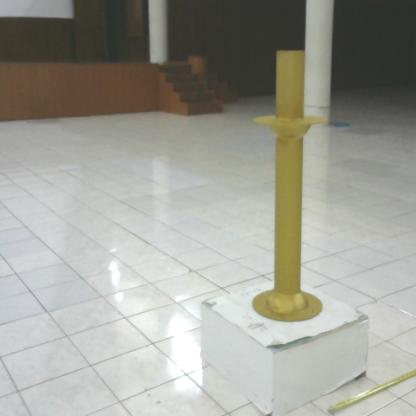pole: (249, 42, 335, 329)
